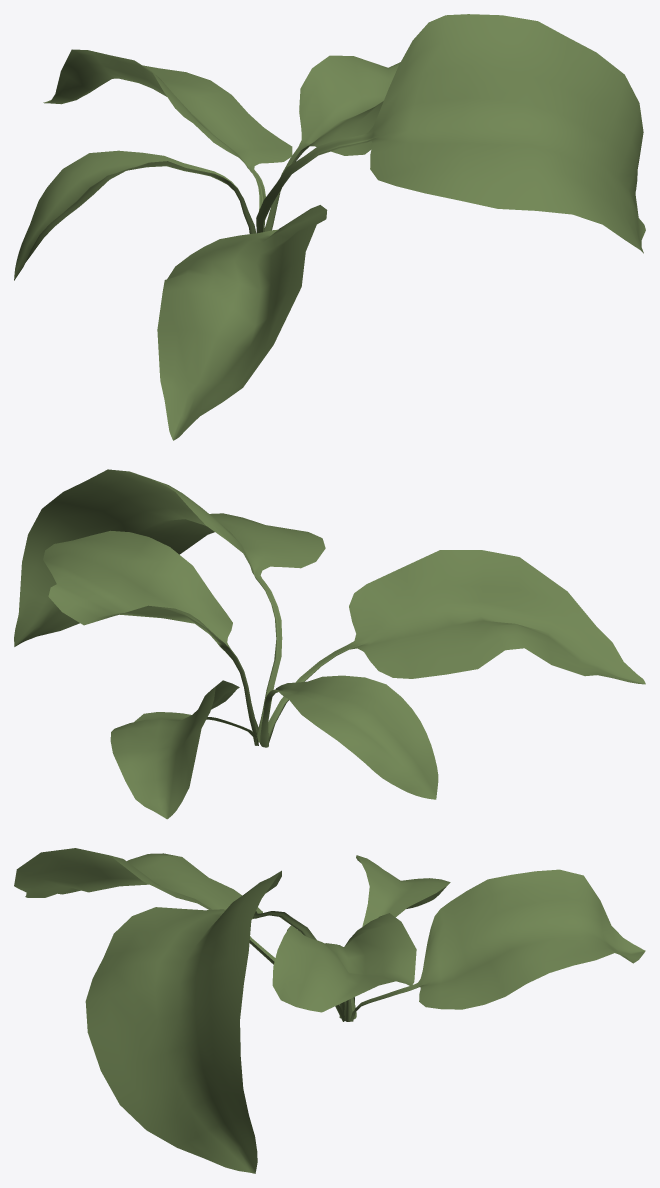
Rendered from weed_plant_02_2.glb.
3 views of the same model, one above another, from view 1: azimuth 30°, elevation 25°; view 2: azimuth 150°, elevation 25°; view 3: azimuth 270°, elevation 25° (orthographic). The views are drawn at different scales.
Visible parts, largest first — view 1: weed_plant_02_c_LOD0; view 2: weed_plant_02_c_LOD0; view 3: weed_plant_02_c_LOD0.
Part boxes in pixels (x1=…): weed_plant_02_c_LOD0: x1=14, y1=14, x2=645, y2=440; weed_plant_02_c_LOD0: x1=14, y1=469, x2=645, y2=819; weed_plant_02_c_LOD0: x1=14, y1=848, x2=645, y2=1173.
Bounding box in the file's own units: 0.1424 × 0.0549 × 0.1435.
